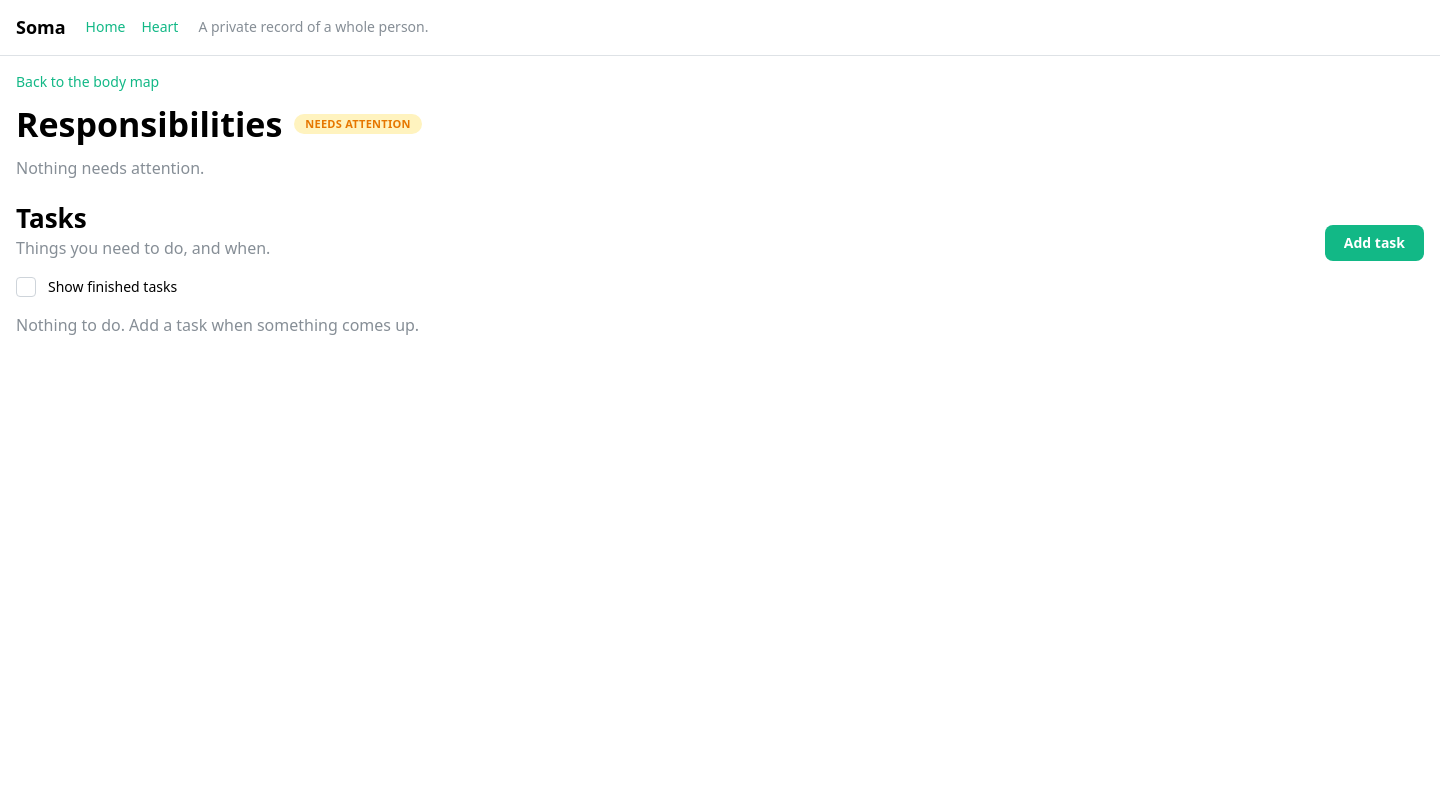
Scenario: Tasks page › will not save a task without a title
expect the text "Nothing to do. Add a task when something comes up." is shown: met, box [16,314,419,336]
Click the button "Add task".
click(1374, 243)  # box [1325,225,1424,261]
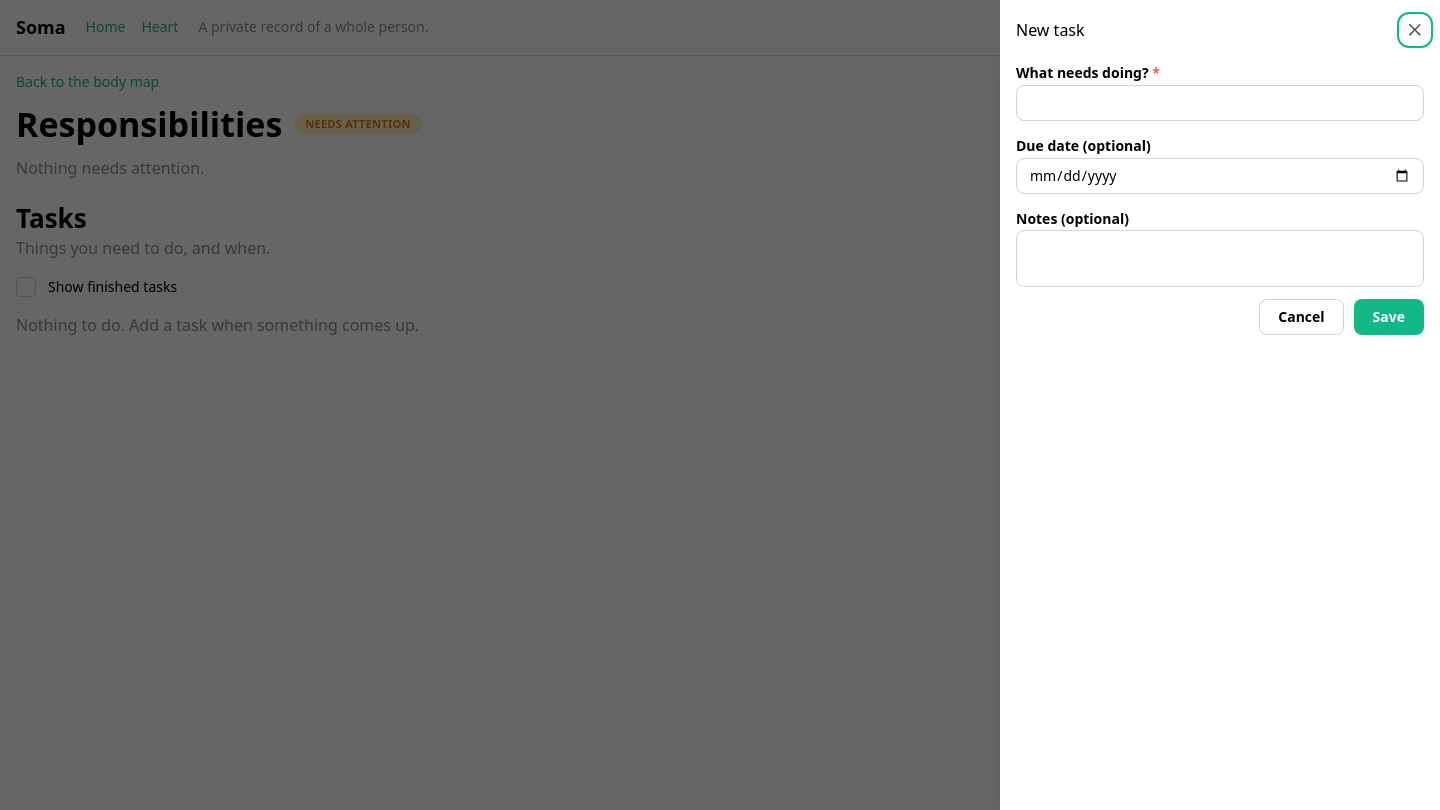
Click the button "Save".
click(1389, 317)  # box [1354,299,1424,335]
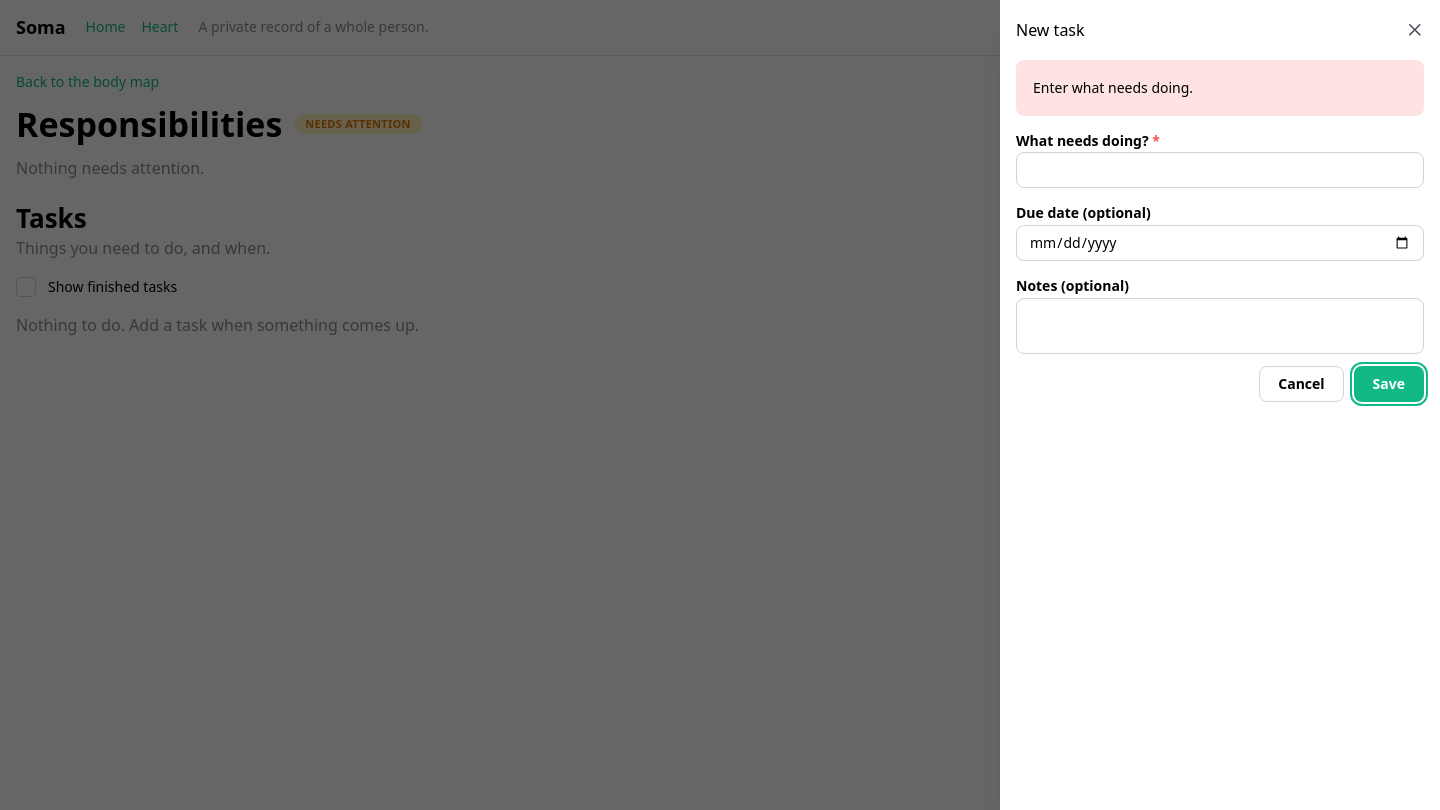
expect the message reads "Enter what needs doing.": met, box [1033,78,1193,97]
